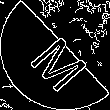M_NE: (19, 21, 91, 89)
